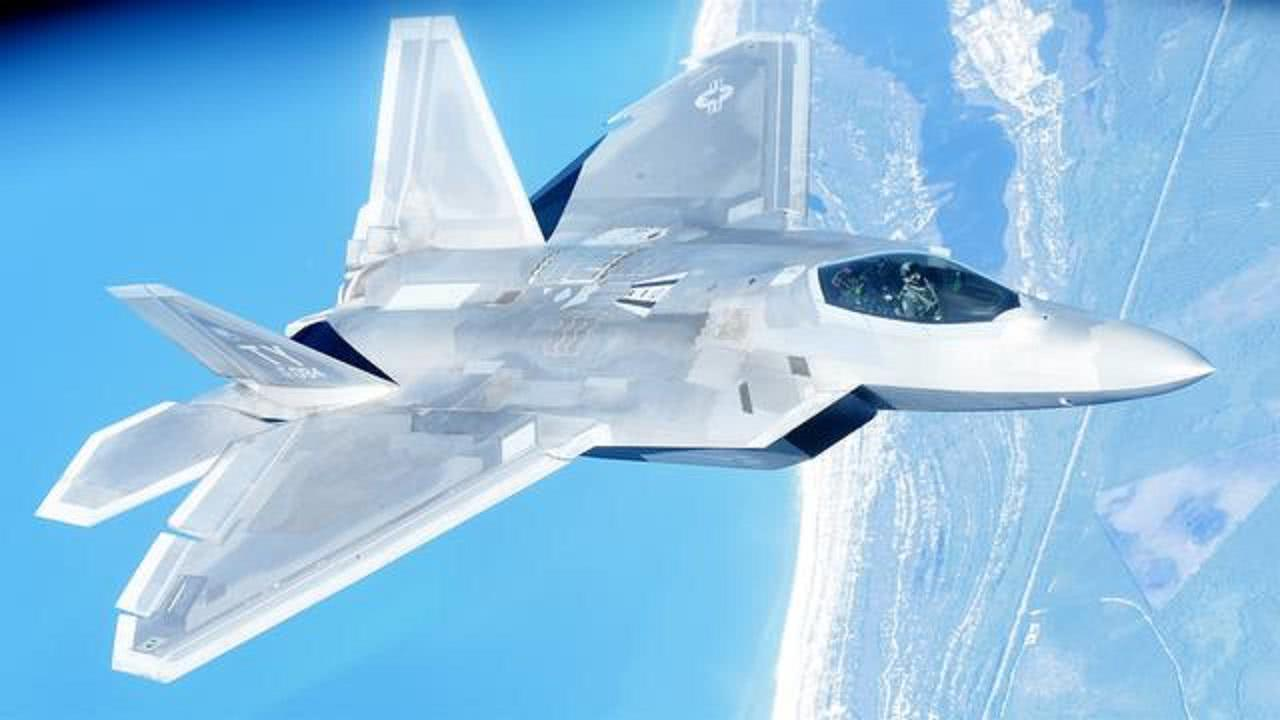airplane: (24, 16, 1229, 680)
